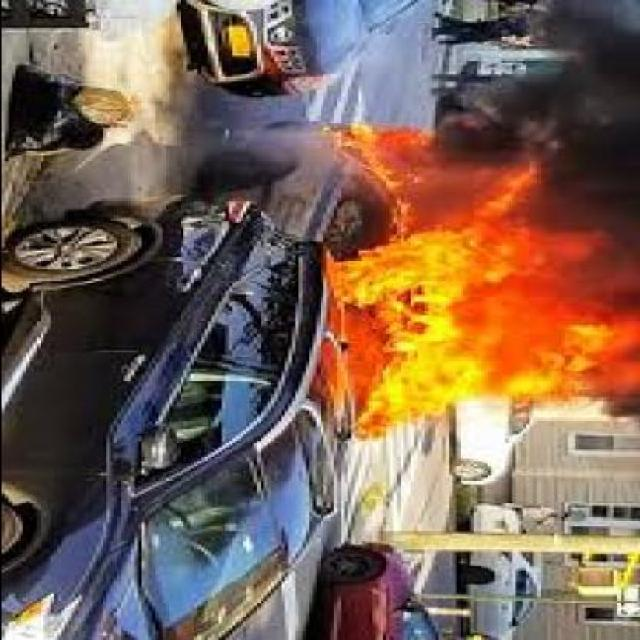Fire: (312, 114, 480, 447), (482, 168, 608, 402)
Smoke: (498, 14, 640, 161)
